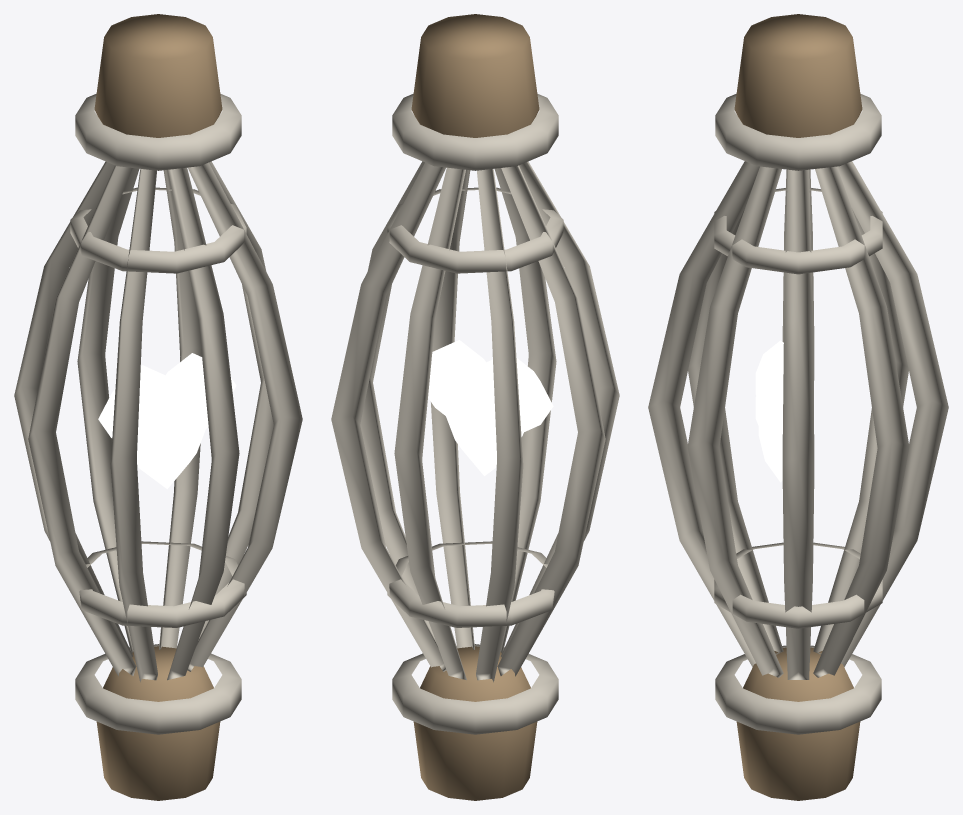
Rendered from interior_mythic.glb.
3 views of the same model, side by side, from view 1: azimuth 30°, elevation 25°; view 2: azimuth 150°, elevation 25°; view 3: azimuth 270°, elevation 25° (orthographic).
Visible parts, largest first — view 1: interior_mythic; view 2: interior_mythic; view 3: interior_mythic.
Boxes of the visible parts, left/top/right/bottom form: interior_mythic: left=14, top=14, right=302, bottom=800; interior_mythic: left=331, top=14, right=619, bottom=800; interior_mythic: left=648, top=14, right=948, bottom=800.
Size of the model in its own units: 0.1692 by 0.46 by 0.1692.
